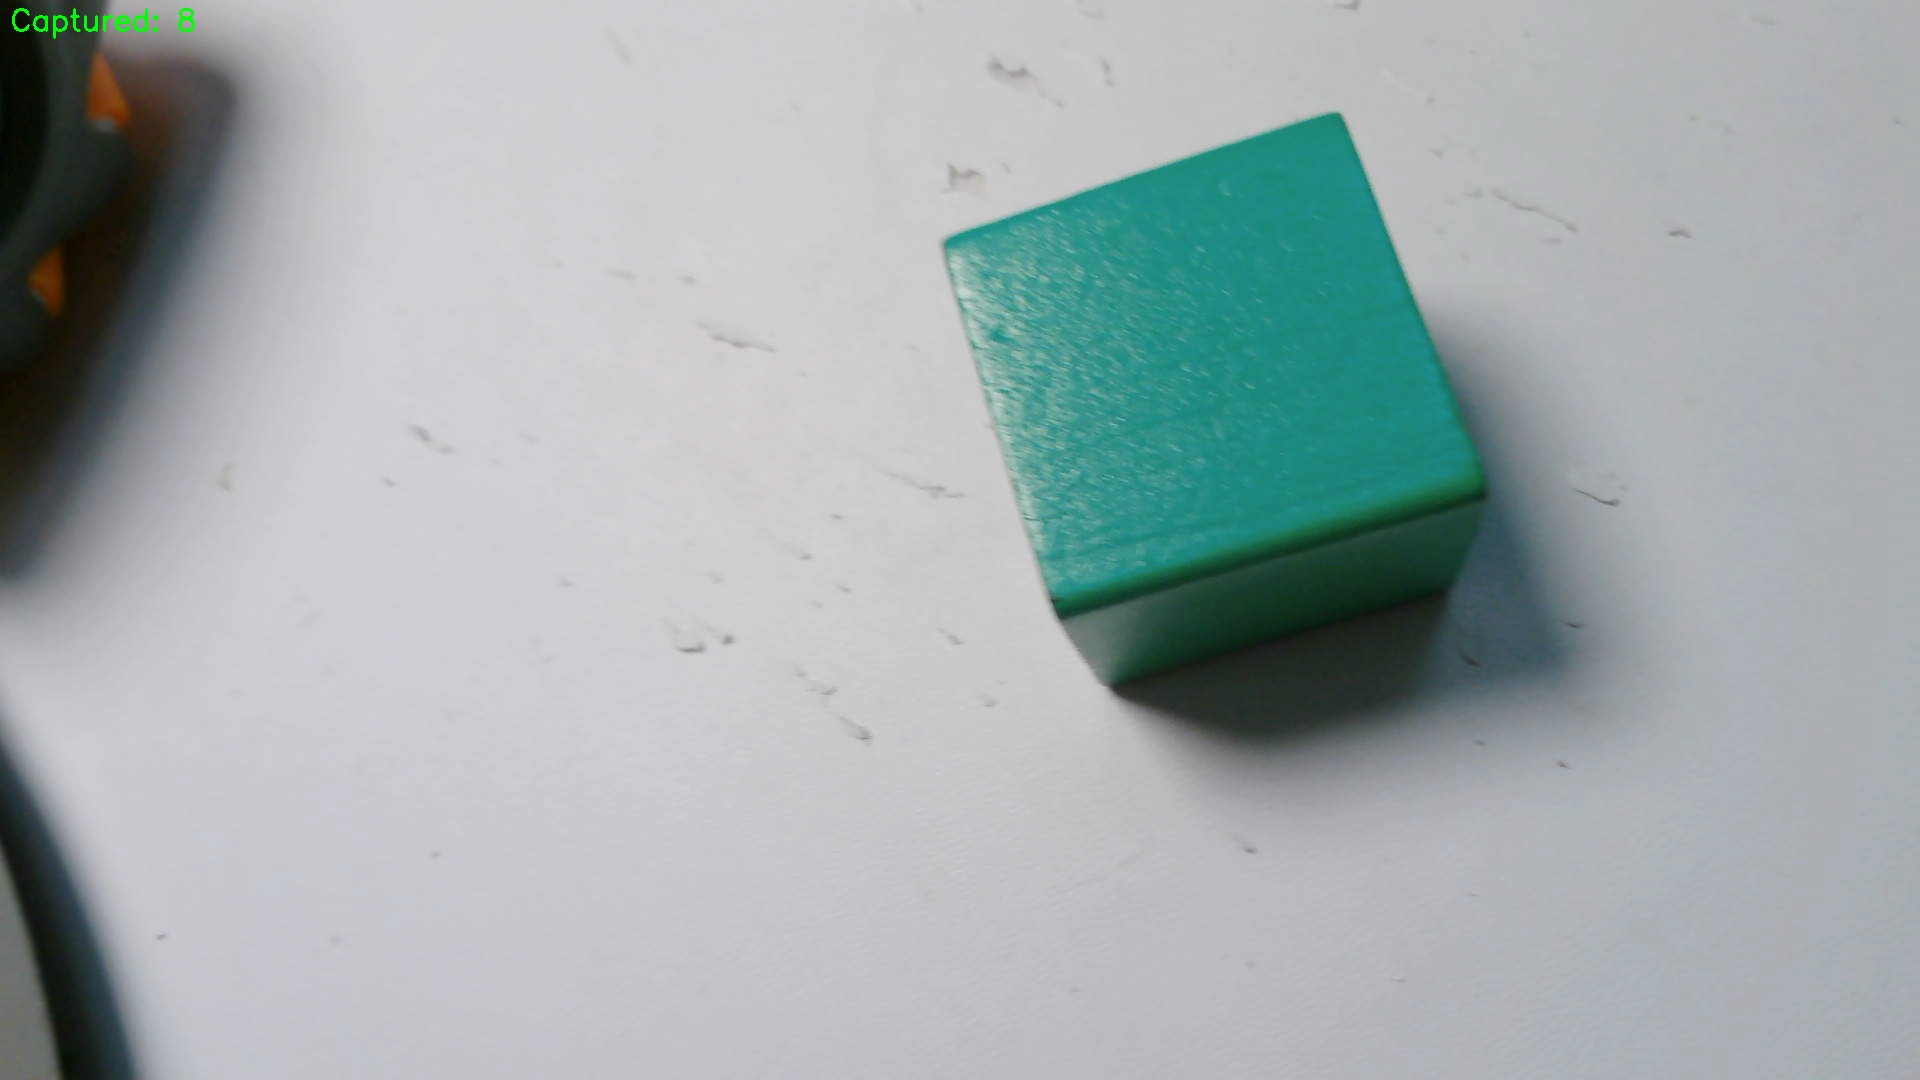green: (942, 107, 1491, 692)
